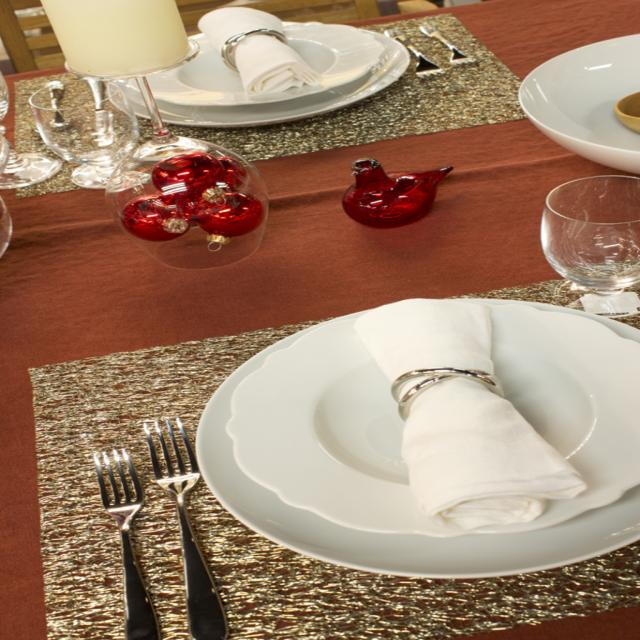non-organic waste: (204, 302, 640, 562)
